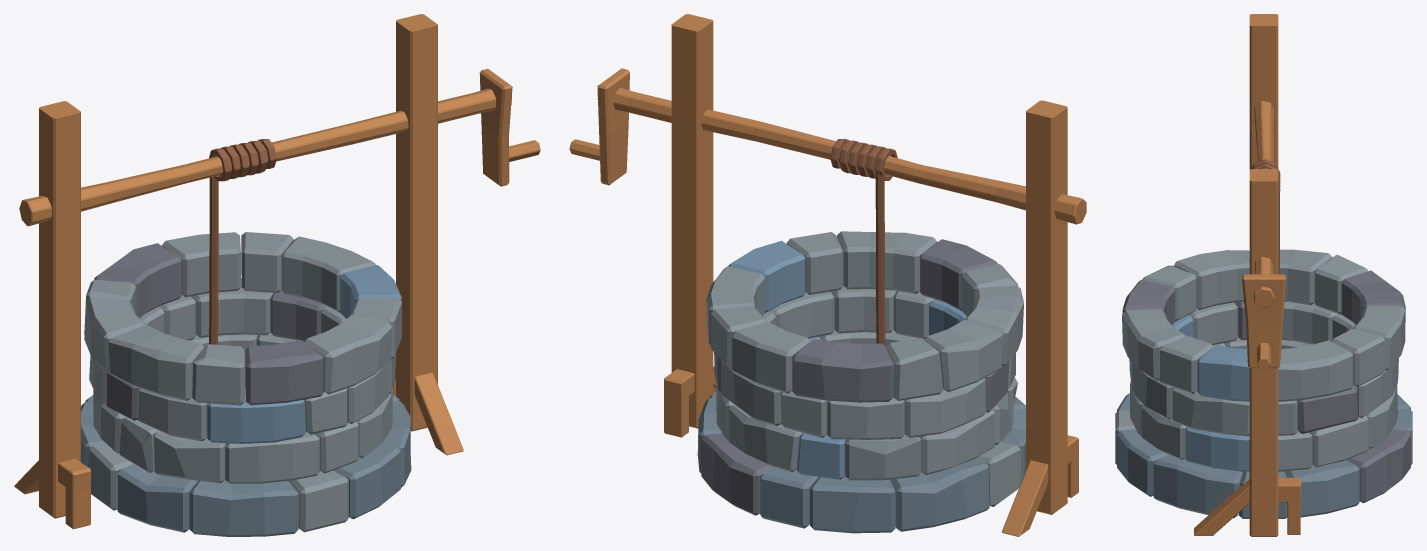
The model's file is well.fbx.
3 views of the same model, side by side, from view 1: azimuth 30°, elevation 25°; view 2: azimuth 150°, elevation 25°; view 3: azimuth 270°, elevation 25° (orthographic). The views are drawn at different scales.
Visible parts, largest first — view 1: Cube.004, Cube.003, Cube, Cube.002, Cube.001, Cylinder; view 2: Cube.004, Cube.003, Cube, Cube.002, Cube.001, Cylinder; view 3: Cube.003, Cube.004, Cube, Cube.002, Cube.001, Cylinder.
Boxes of the visible parts, <box> form: Cube.004: <box>14,14,540,529</box>; Cube.003: <box>84,232,401,405</box>; Cube: <box>81,376,411,536</box>; Cube.002: <box>89,278,395,443</box>; Cube.001: <box>93,331,392,483</box>; Cylinder: <box>209,139,276,344</box>; Cube.004: <box>569,14,1086,536</box>; Cube.003: <box>706,231,1023,402</box>; Cube: <box>697,392,1025,533</box>; Cube.002: <box>714,285,1015,439</box>; Cube.001: <box>716,329,1017,480</box>; Cylinder: <box>830,139,897,345</box>; Cube.003: <box>1122,249,1405,401</box>; Cube.004: <box>1194,14,1300,536</box>; Cube: <box>1115,393,1412,518</box>; Cube.002: <box>1129,301,1398,436</box>; Cube.001: <box>1130,336,1397,471</box>; Cylinder: <box>1251,159,1280,274</box>.
Size of the model in its own units: 2375 by 1785 by 1344.
